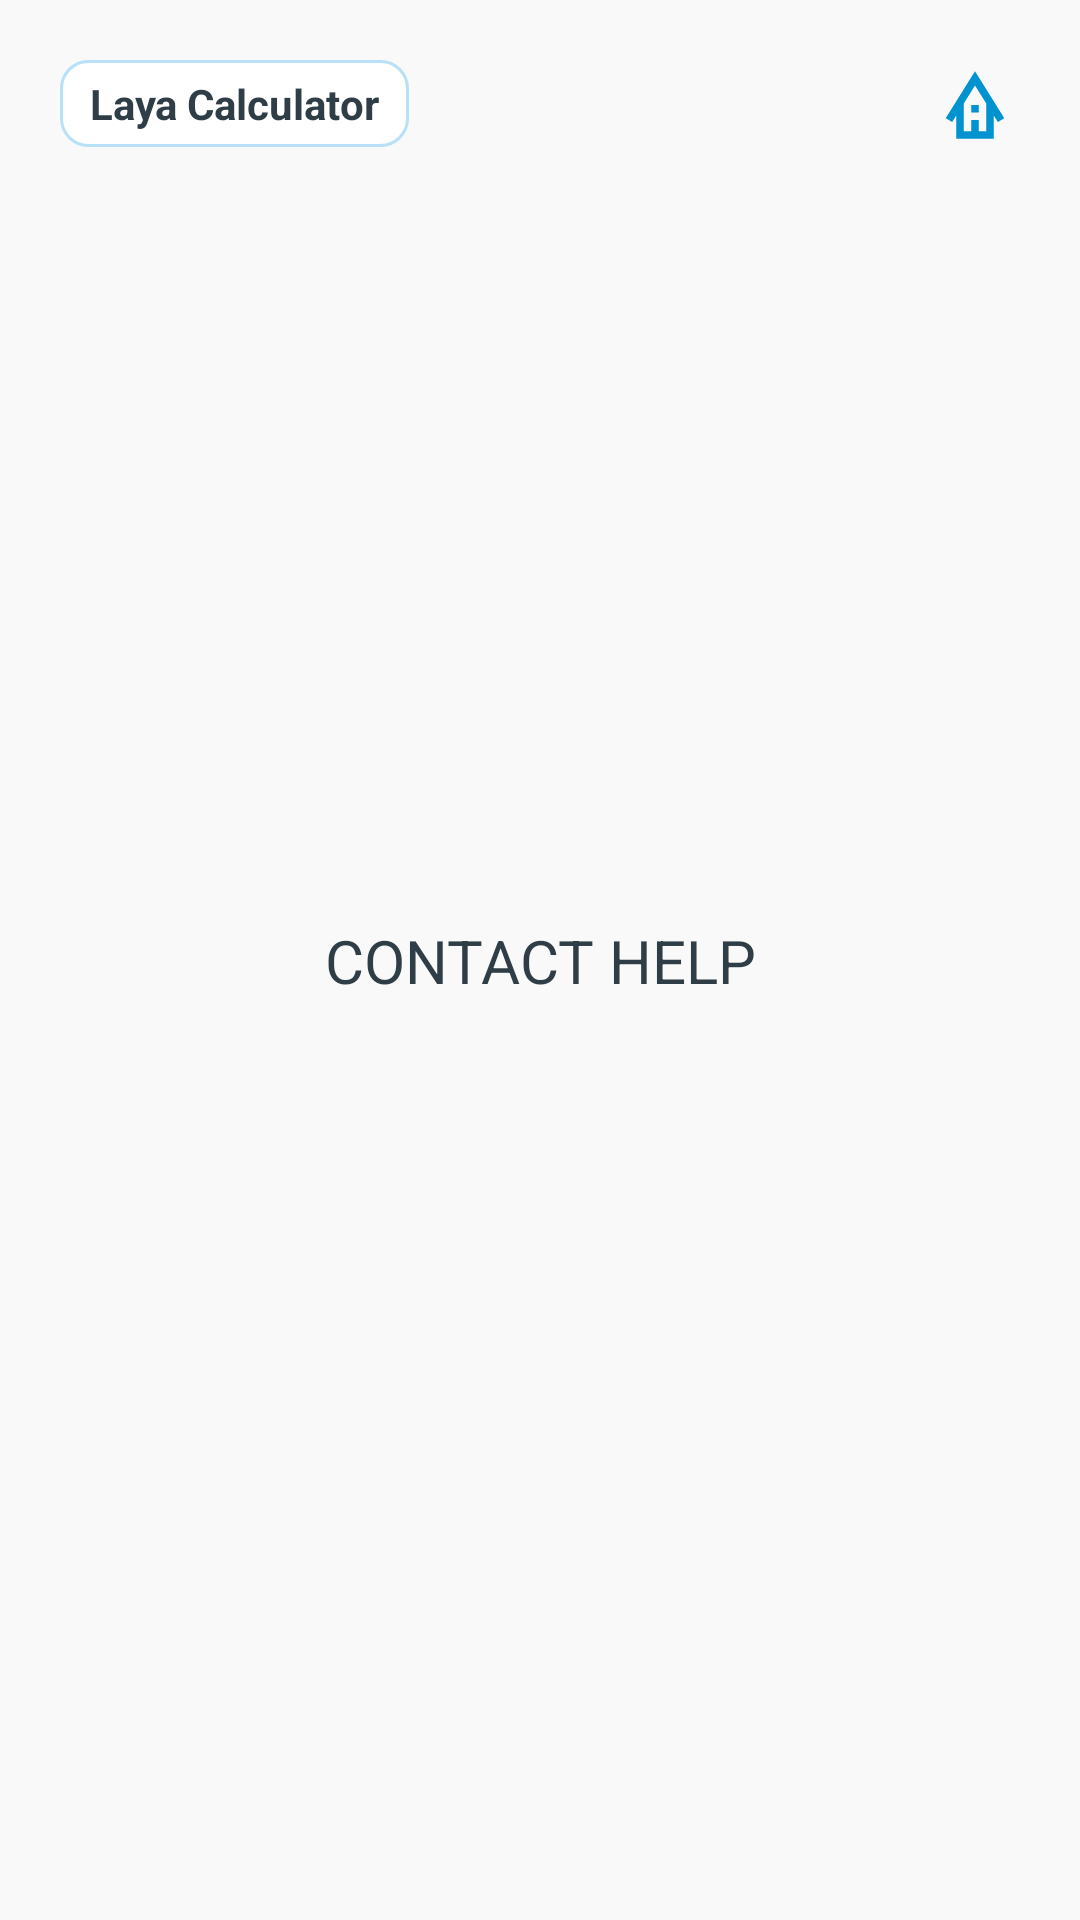

Icons on this 1080 × 1920 Android screen, each with the point to tap as point (x, y):
bungalow: point (975, 105)
